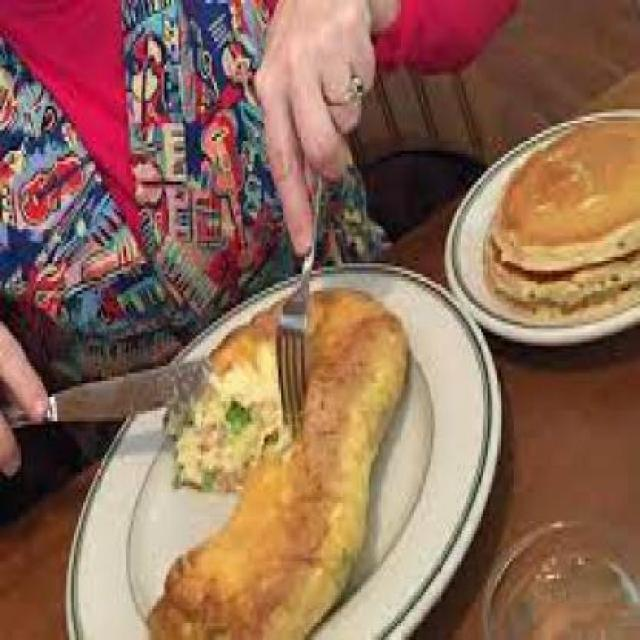omelette: (136, 301, 429, 637)
pancakes: (471, 102, 638, 336)
